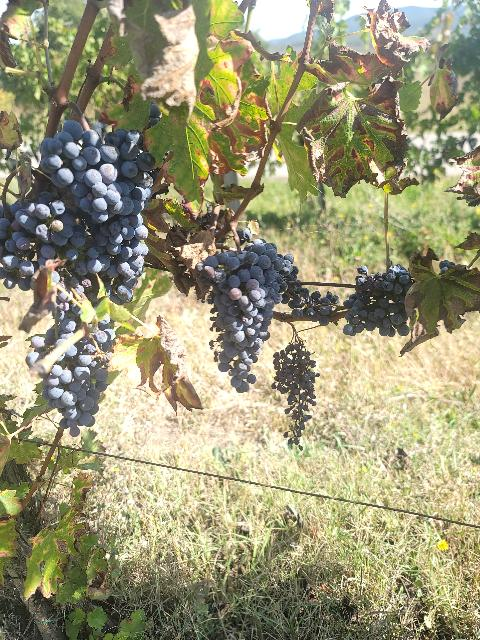grapes: (194, 239, 298, 392), (25, 301, 115, 436), (40, 121, 124, 225), (106, 129, 155, 289), (271, 332, 319, 450), (344, 265, 414, 336)
